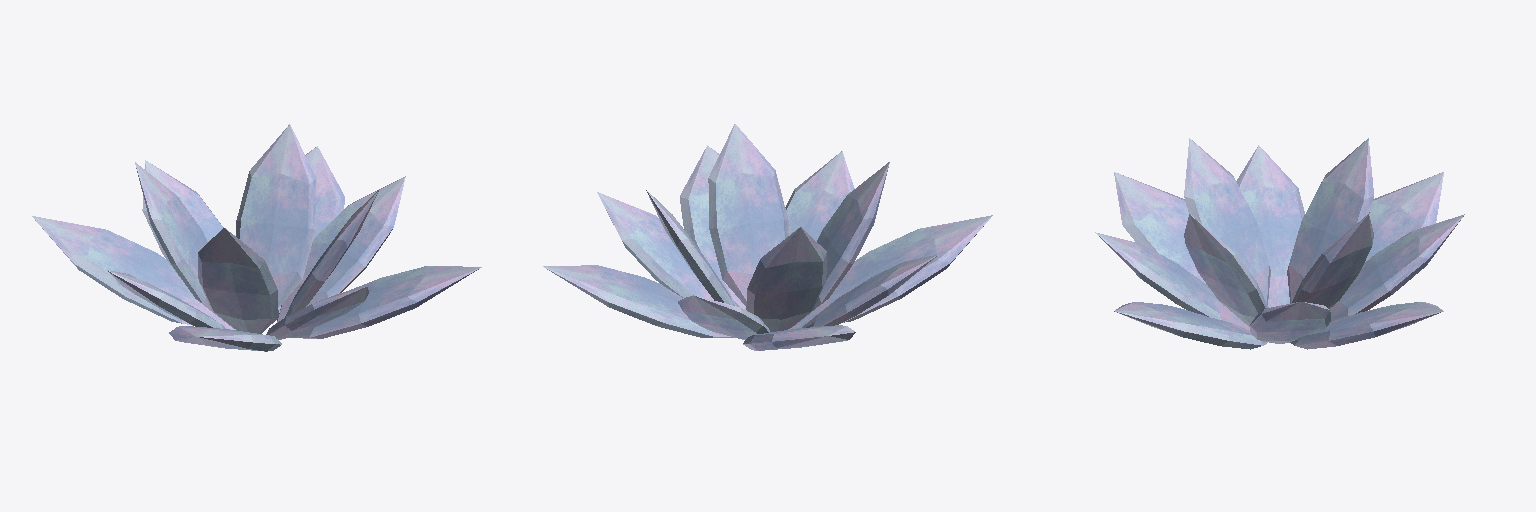
The picture shows the model from 3 angles: view 1: azimuth 30°, elevation 25°; view 2: azimuth 150°, elevation 25°; view 3: azimuth 270°, elevation 25°; orthographic projection.
Visible parts, largest first — view 1: 立方体.012; view 2: 立方体.012; view 3: 立方体.012.
Boxes of the visible parts, <box> form: 立方体.012: <box>32,124,481,351</box>; 立方体.012: <box>543,124,992,350</box>; 立方体.012: <box>1095,138,1464,349</box>.
Size of the model in its own units: 1.75 by 0.8381 by 1.75.
1 materials, 1 textured.